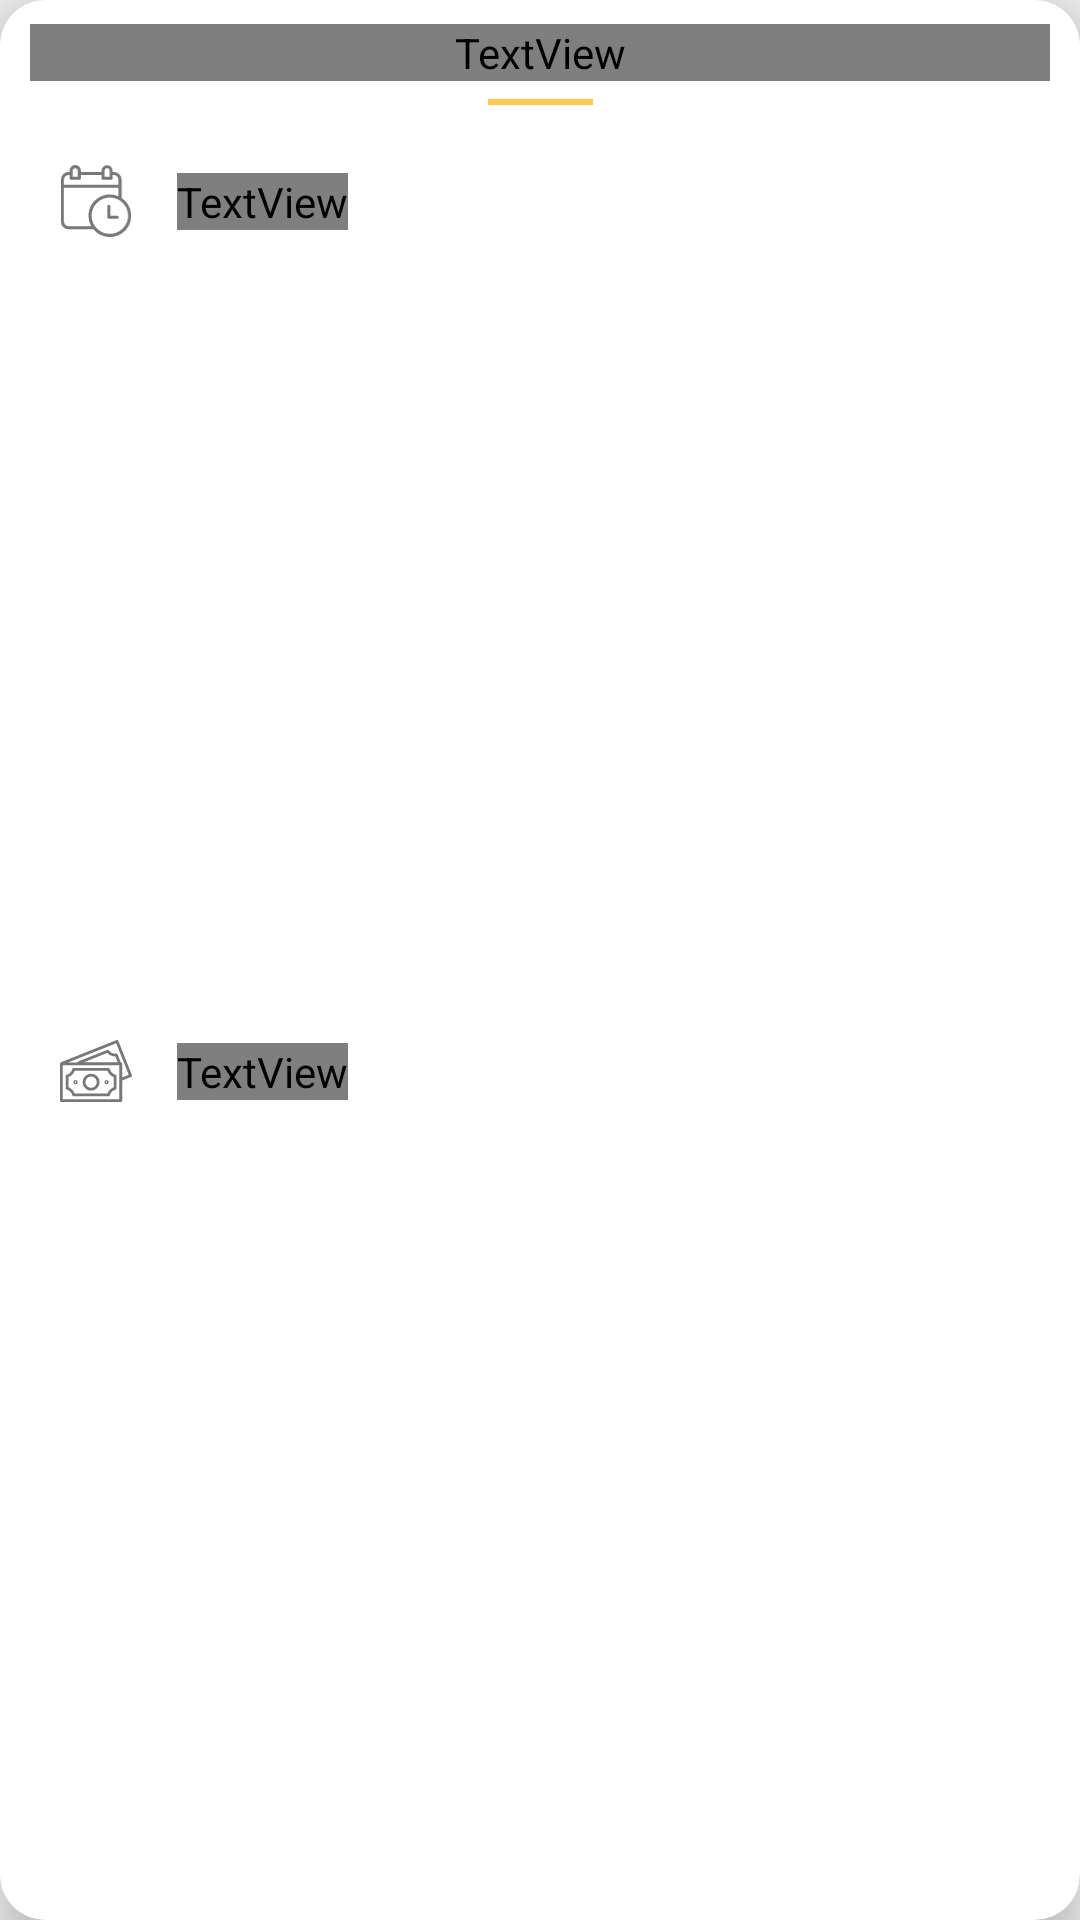

Where to tap for icons on this 1080px x 1920px app screen, as point (x, y):
event: point (96, 201)
money: point (96, 1071)
